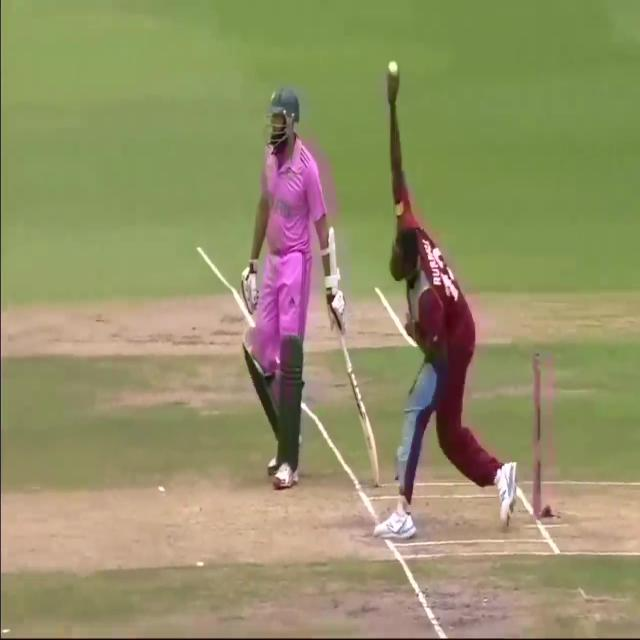Ball: (239, 87, 341, 500)
Fielder: (369, 56, 522, 546)
